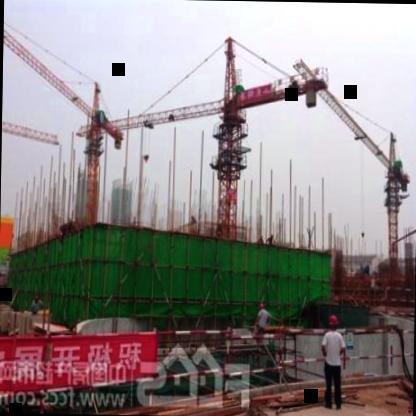helmet: (328, 312, 340, 332)
